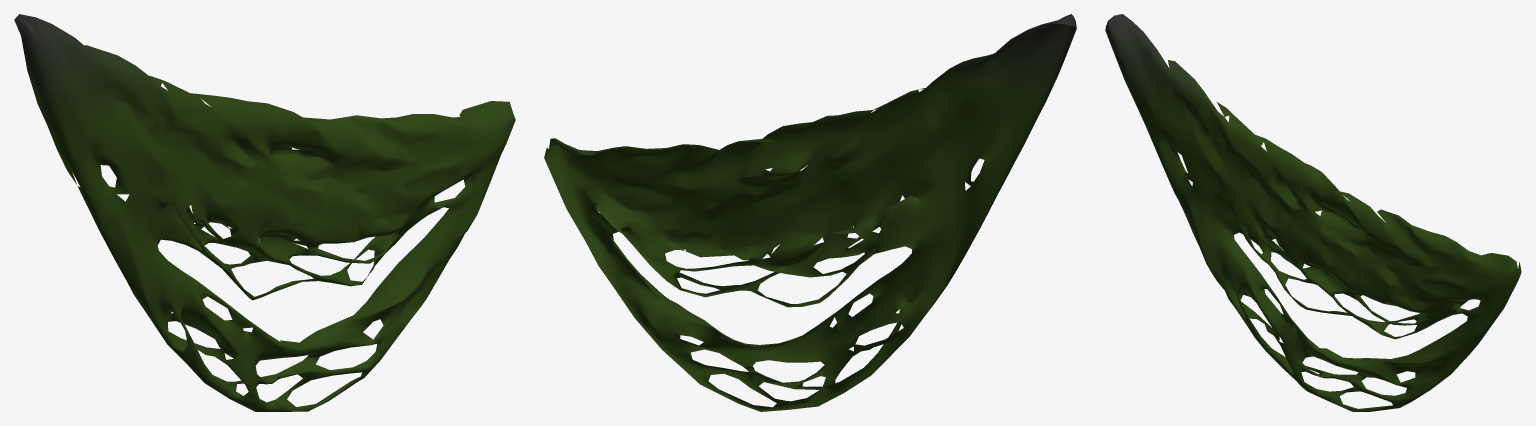
File: SM_Sewer_Slime_05.fbx
3 renders of one model, left to right at view 1: azimuth 30°, elevation 25°; view 2: azimuth 150°, elevation 25°; view 3: azimuth 330°, elevation 25°, orthographic. The views are drawn at different scales.
Parts seen in each view (by area): view 1: transform1; view 2: transform1; view 3: transform1.
Part boxes in pixels (box(x1,y1,x2,y2)): transform1: box(14, 14, 515, 411); transform1: box(544, 14, 1076, 411); transform1: box(1105, 14, 1521, 411).
Bounding box in the file's own units: 352 × 308 × 54.96.
